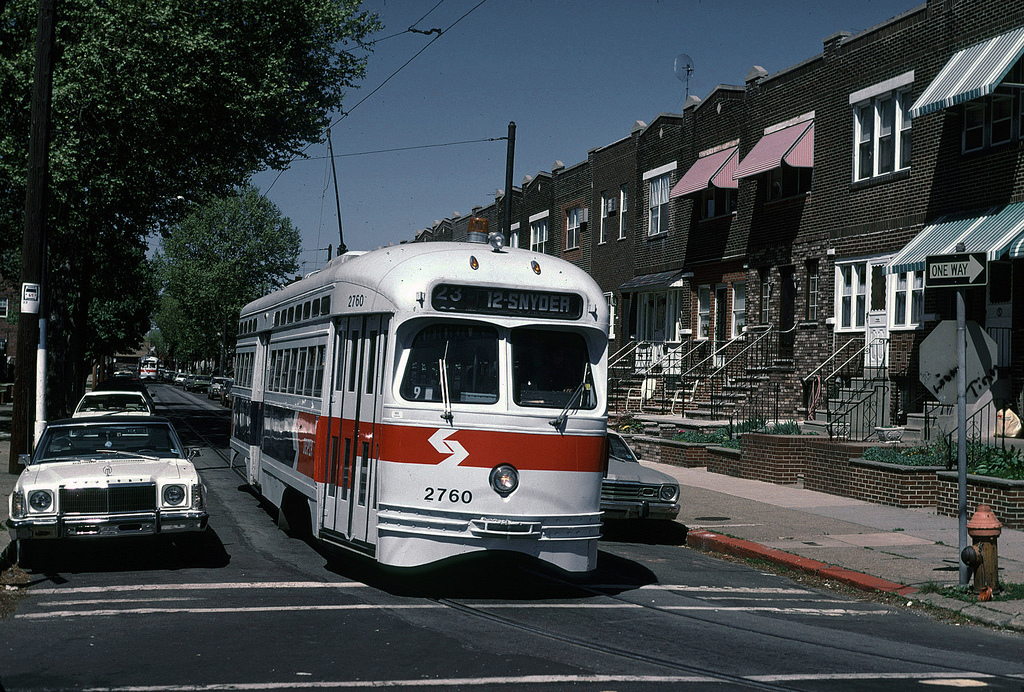Car: (0, 366, 238, 558), (600, 425, 680, 536)
